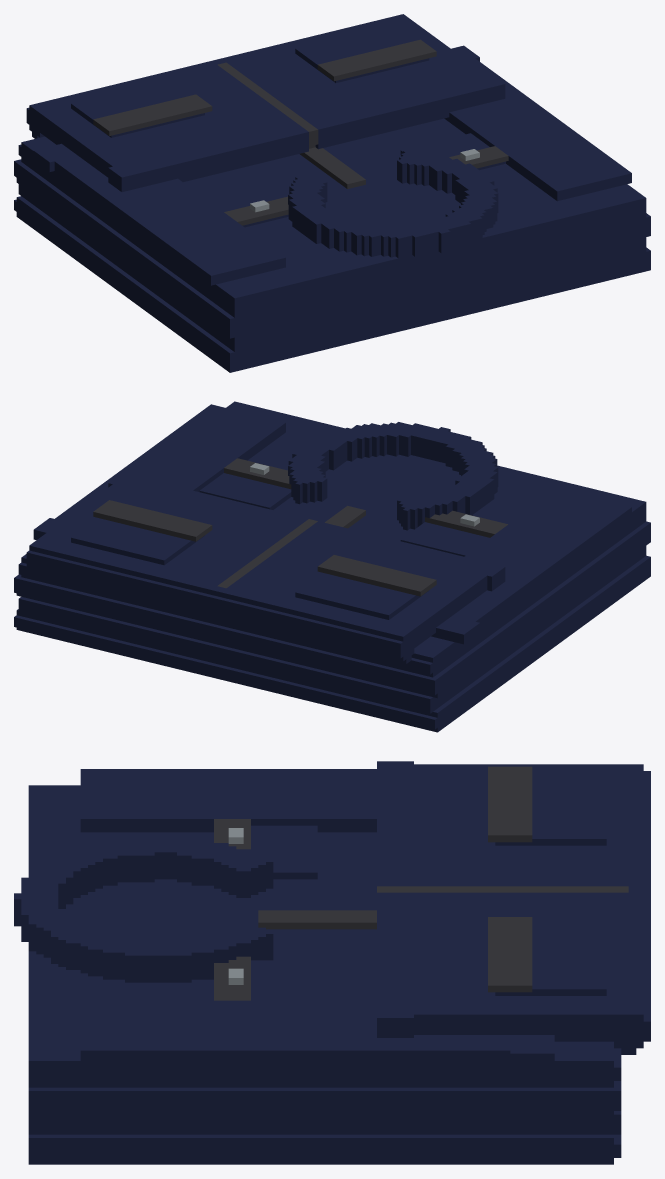
The model's file is technician_coveralls.glb.
3 renders of one model, top to bottom at view 1: azimuth 30°, elevation 25°; view 2: azimuth 150°, elevation 25°; view 3: azimuth 270°, elevation 25°, orthographic. The views are drawn at different scales.
Visible parts, largest first — view 1: technician_coveralls:compound; view 2: technician_coveralls:compound; view 3: technician_coveralls:compound.
Boxes of the visible parts, box(x1,y1,x2,y2) form: technician_coveralls:compound: box(14, 14, 650, 372); technician_coveralls:compound: box(14, 401, 650, 732); technician_coveralls:compound: box(14, 761, 650, 1164).
Bounding box in the file's own units: 0.368 × 0.088 × 0.344.
